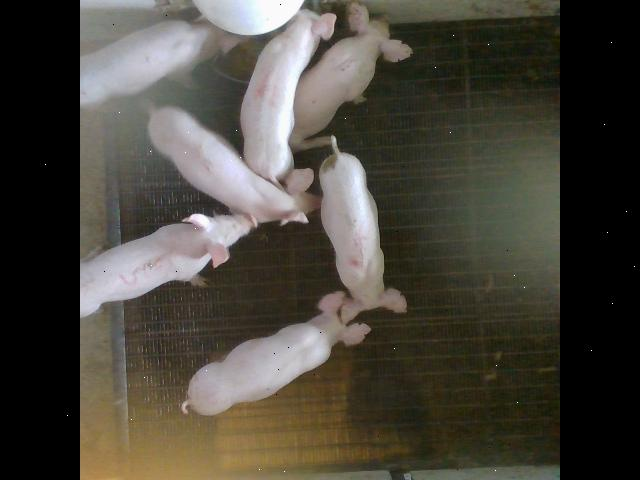pig-3: (82, 212, 258, 316)
pig-4: (241, 9, 334, 181)
pig-5: (319, 135, 406, 321)
